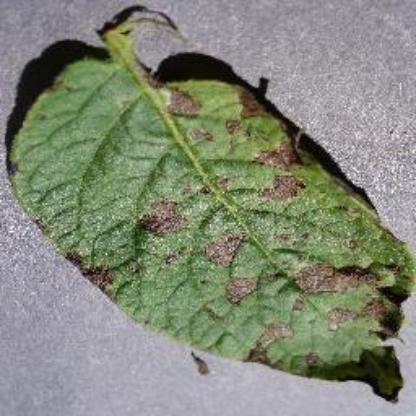Early-Blight: (6, 5, 414, 406)
